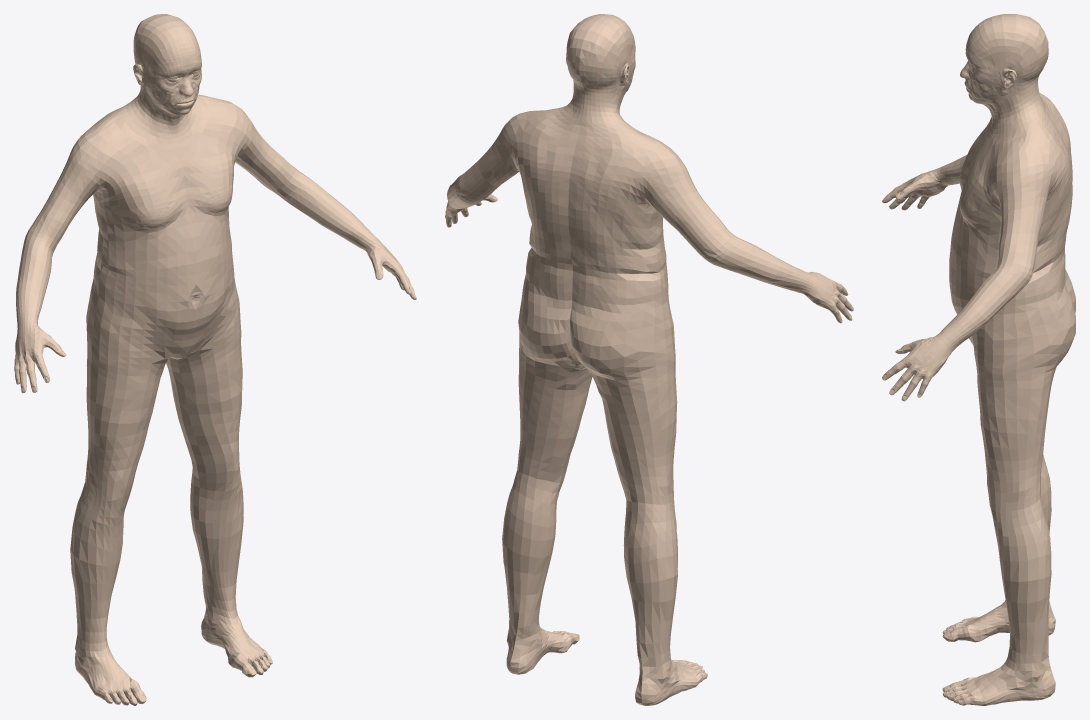
File: male-older-heavy-low.glb
The picture shows the model from 3 angles, left to right: view 1: azimuth 30°, elevation 25°; view 2: azimuth 150°, elevation 25°; view 3: azimuth 270°, elevation 25°; orthographic projection.
Visible parts, largest first — view 1: world; view 2: world; view 3: world.
Part boxes in pixels (bbox=[...]): world: bbox=[14, 14, 416, 705]; world: bbox=[445, 14, 853, 705]; world: bbox=[882, 14, 1075, 705].
Size of the model in its own units: 1.22 by 1.93 by 0.5214.
